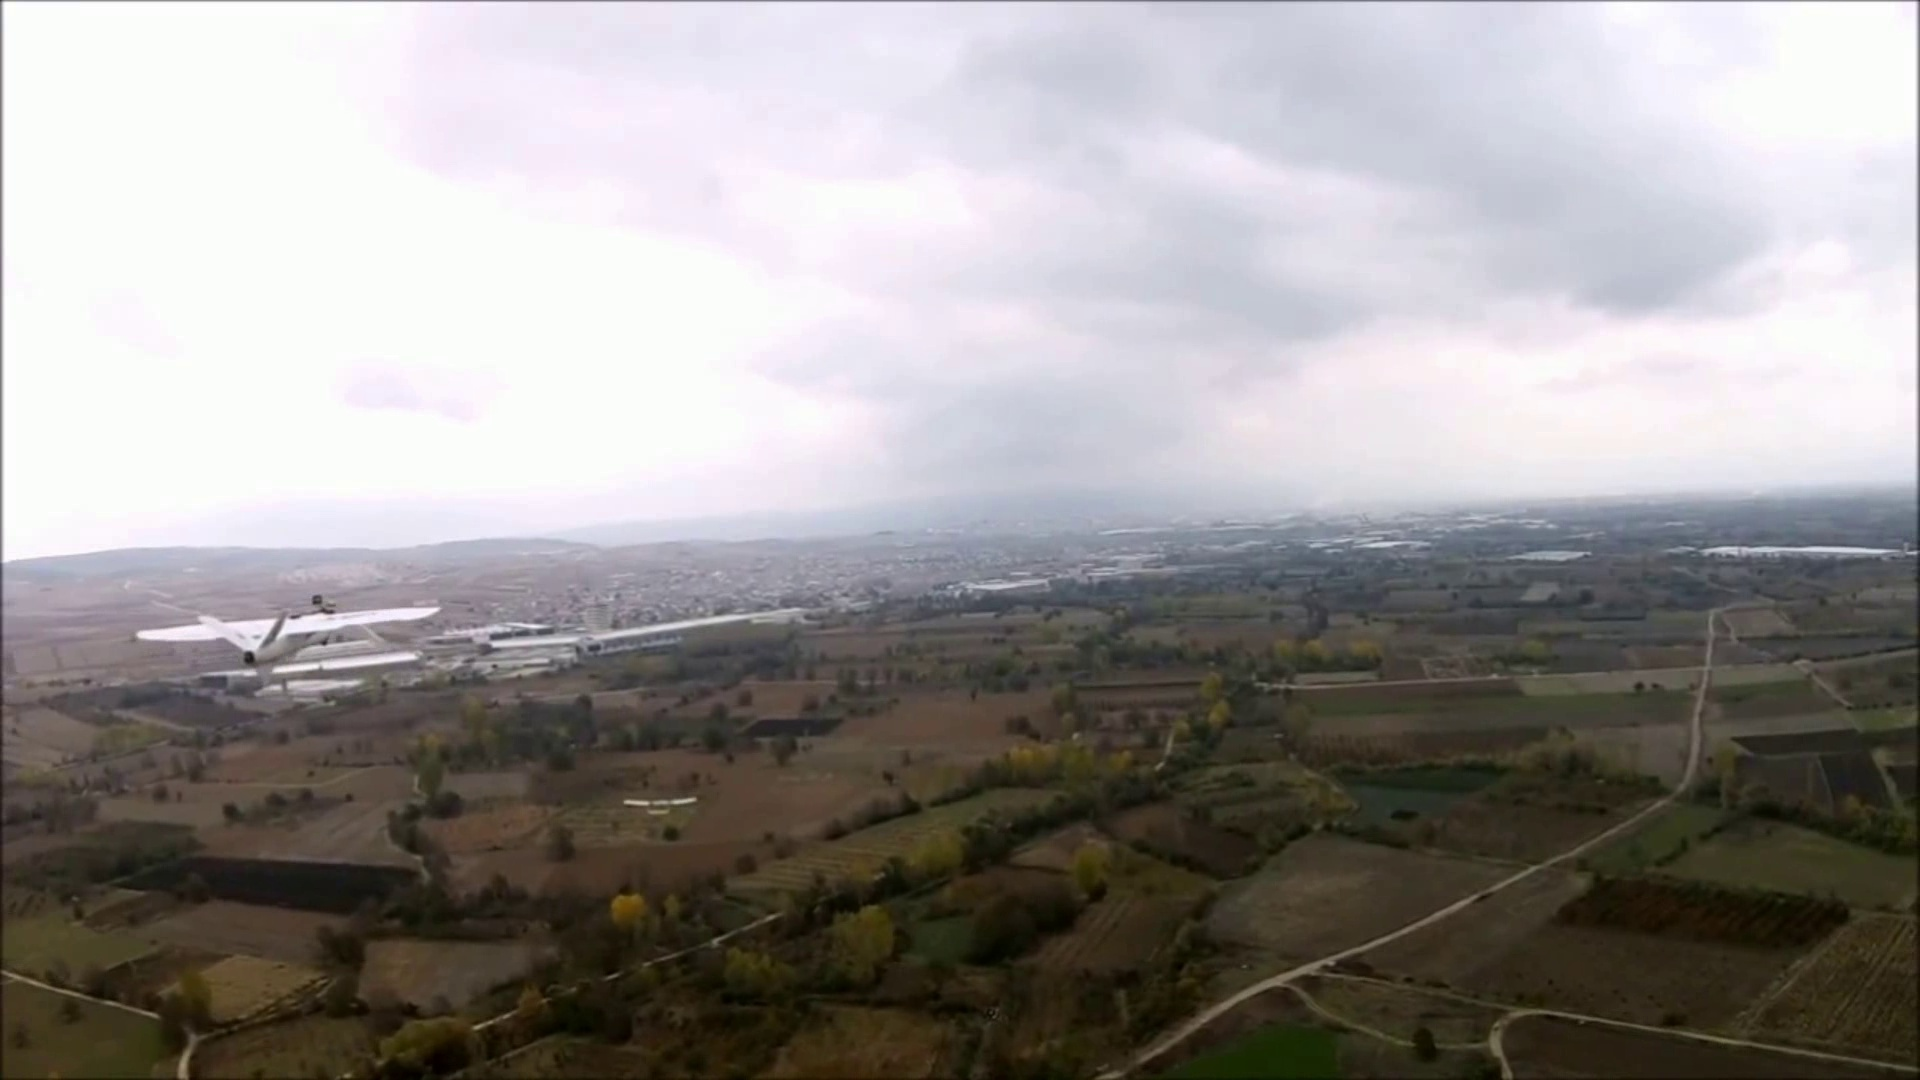airplane: (135, 592, 448, 670)
